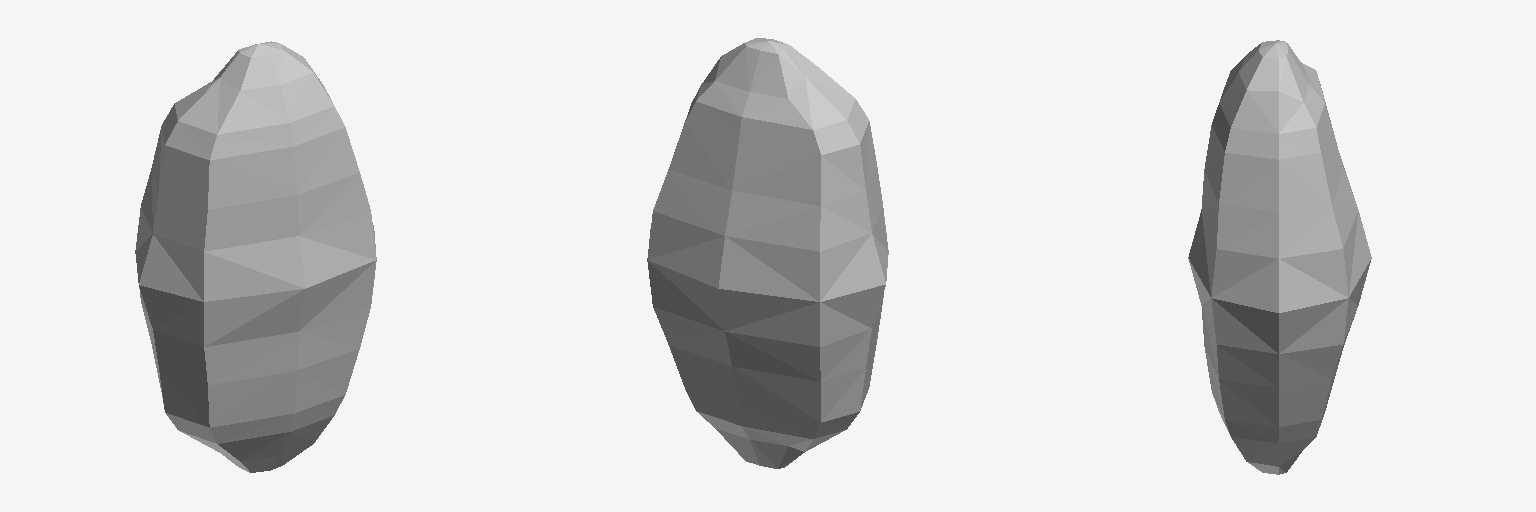
File: DS_Stone.obj
3 renders of one model, left to right at view 1: azimuth 30°, elevation 25°; view 2: azimuth 150°, elevation 25°; view 3: azimuth 270°, elevation 25°, orthographic.
Parts seen in each view (by area): view 1: default; view 2: default; view 3: default.
Boxes of the visible parts, box(x1,y1,x2,y2) form: default: box(135, 41, 376, 472); default: box(647, 38, 888, 468); default: box(1188, 40, 1371, 474).
Bounding box in the file's own units: 7.15 × 12.38 × 4.83.